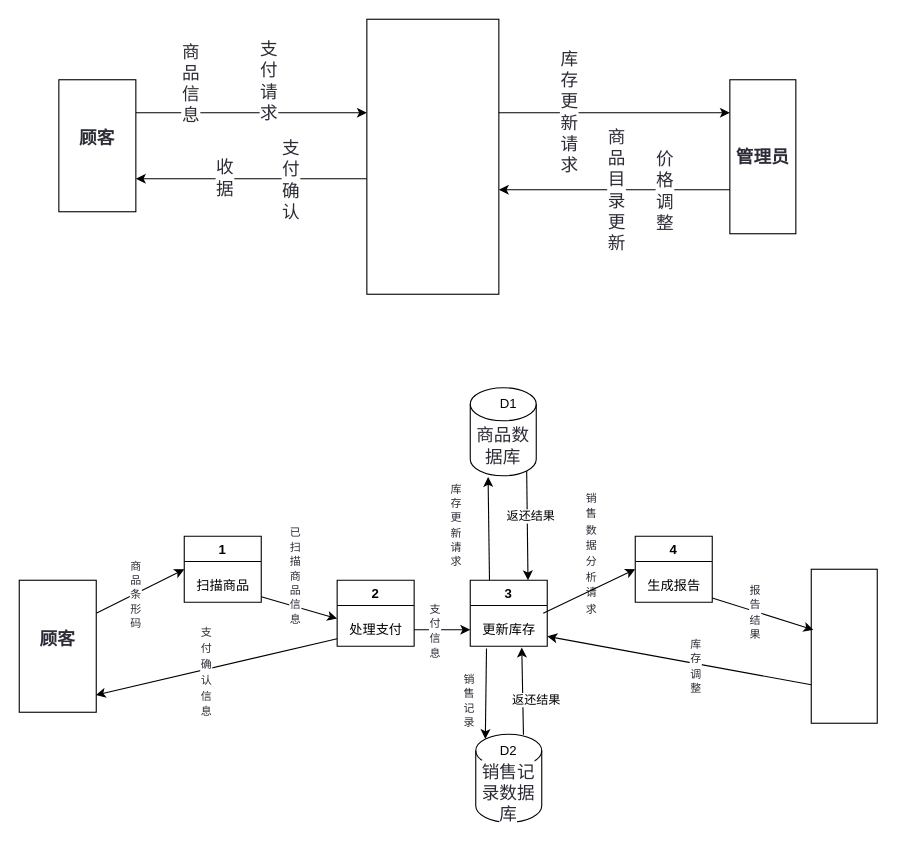
Some shapes in this 897 by 843 pixel diagram are drawn without their labels. The centre of each missing label's shape, as x and y in pixels:
收银员: (x=843, y=645)
收银管理: (x=432, y=156)
